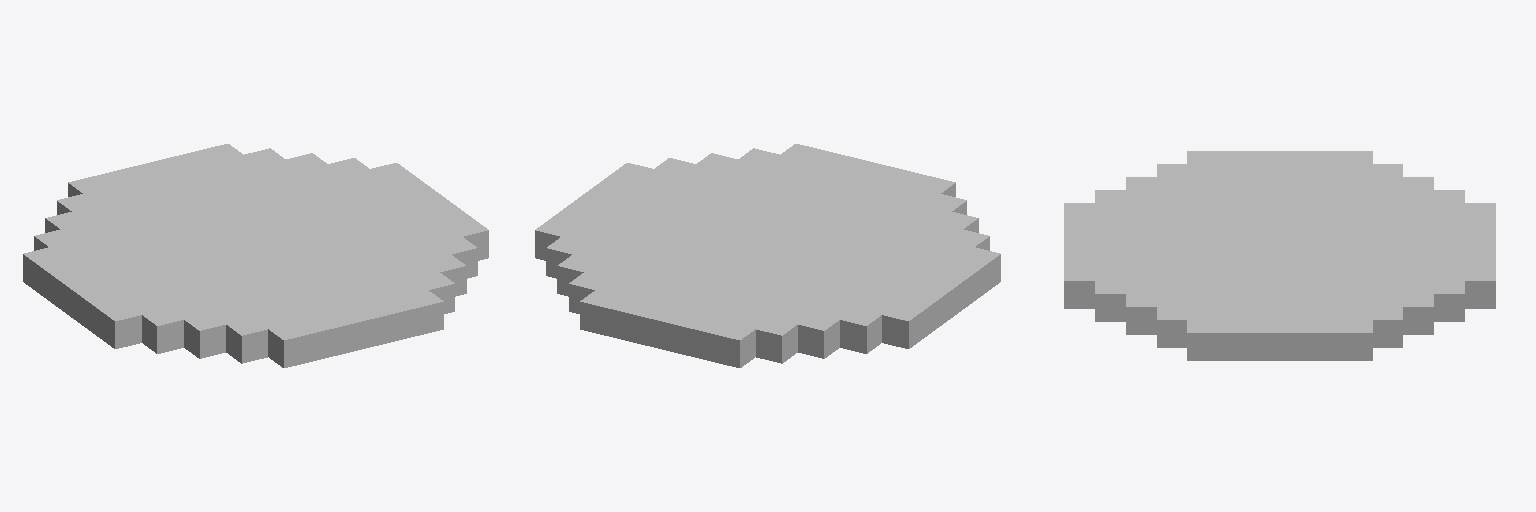
Rendered from Moon.obj.
3 views of the same model, side by side, from view 1: azimuth 30°, elevation 25°; view 2: azimuth 150°, elevation 25°; view 3: azimuth 270°, elevation 25° (orthographic).
Bounding box in the file's own units: 14 × 1 × 14.